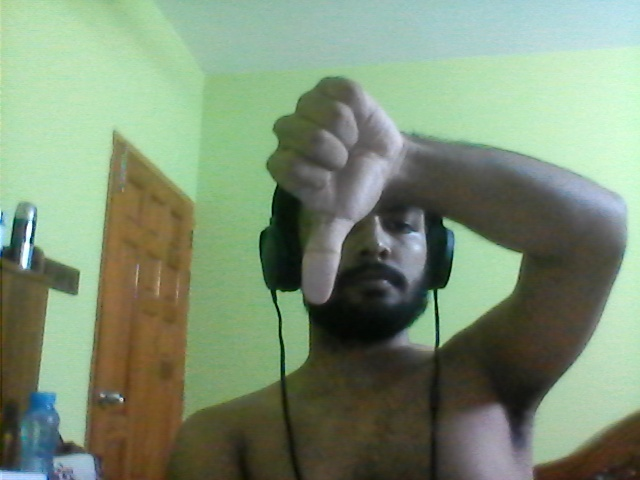No: (258, 61, 408, 314)
